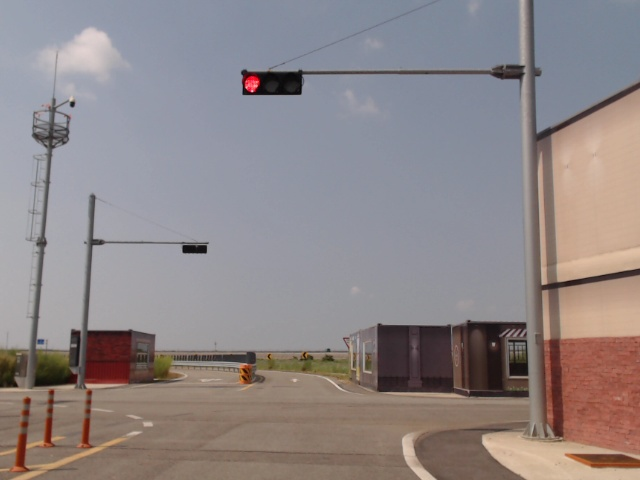red_3: (242, 72, 303, 96)
